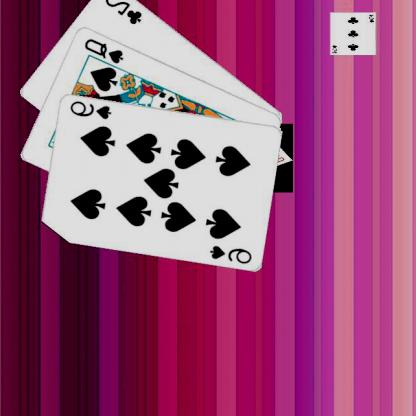2C: (104, 0, 145, 26)
9S: (68, 97, 114, 121), (208, 242, 254, 265)
QS: (83, 35, 127, 65)
